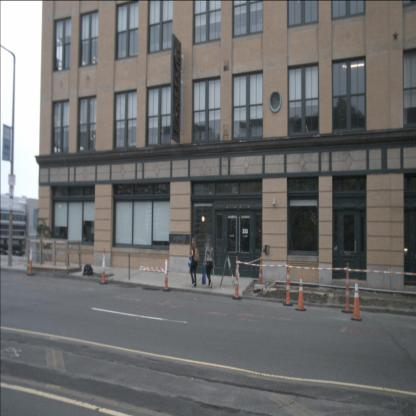human-pedestrian-adult: (202, 238, 216, 288), (188, 237, 200, 288)
movable_object-trafficcone: (342, 262, 353, 313), (351, 279, 362, 321), (284, 261, 294, 306), (232, 255, 242, 300), (296, 274, 306, 312), (162, 252, 171, 292), (100, 247, 108, 285), (26, 244, 35, 276), (258, 252, 264, 286)
